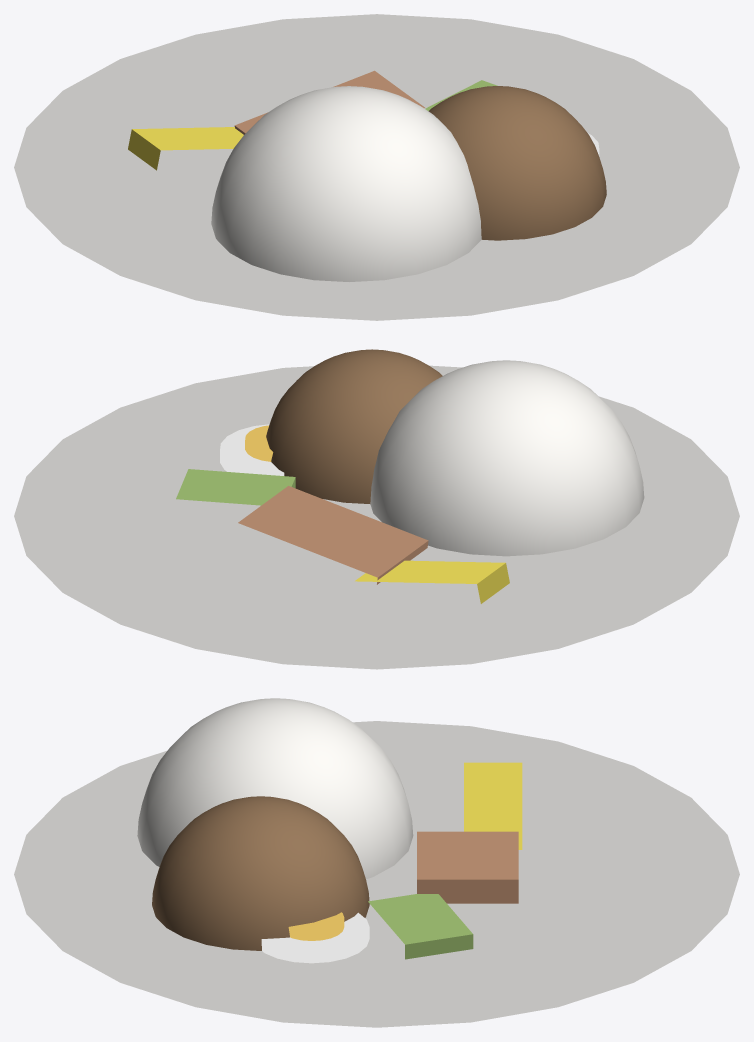
The model's file is bandeja_paisa.glb.
3 renders of one model, top to bottom at view 1: azimuth 30°, elevation 25°; view 2: azimuth 150°, elevation 25°; view 3: azimuth 270°, elevation 25°, orthographic.
Parts seen in each view (by area): view 1: plato, arroz, frijoles, platano, chicharron; view 2: plato, arroz, frijoles, chicharron, aguacate, platano, clara, yema; view 3: plato, arroz, frijoles, chicharron, aguacate, platano, clara, yema.
Part boxes in pixels (x1,y1,x2,y2): plato: (14,14,739,320); arroz: (211,86,481,281); frijoles: (428,86,606,240); platano: (128,127,243,170); chicharron: (234,70,424,134); plato: (14,365,739,669); arroz: (370,360,644,556); frijoles: (266,349,442,503); chicharron: (238,486,428,584); aguacate: (176,469,295,505); platano: (355,560,509,603); clara: (220,424,284,475); yema: (245,425,273,461); plato: (14,721,739,1027); arroz: (137,698,413,879); frijoles: (152,796,369,950); chicharron: (417,831,518,903); aguacate: (368,894,473,959); platano: (464,762,522,849); clara: (261,912,369,963); yema: (288,912,344,940).
Bounding box in the file's own units: 2 × 0.47 × 2.
